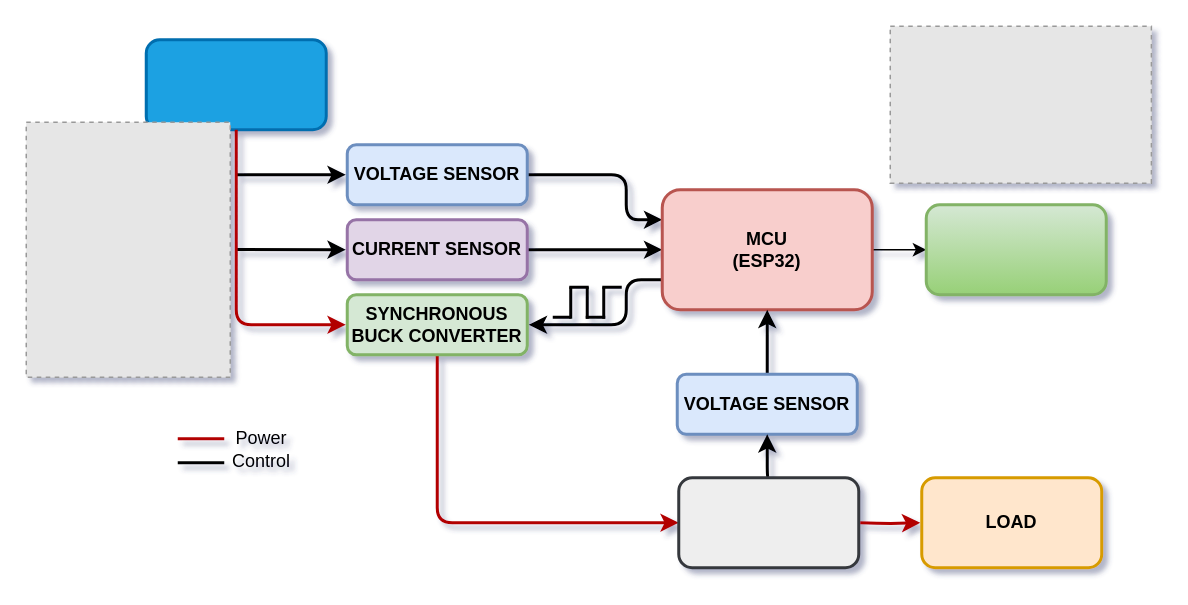
Image size: 1188x605. Some labels were removed from this diagram. Grey dashed boxes stand in for pictures. Here are the shapes that lost their labels. From the top down, the centre of each, then its label:
the point at 235,84: SOLAR PANEL
the point at 1015,249: 20x4 LCD DISPLAY
the point at 768,522: BATTERY
